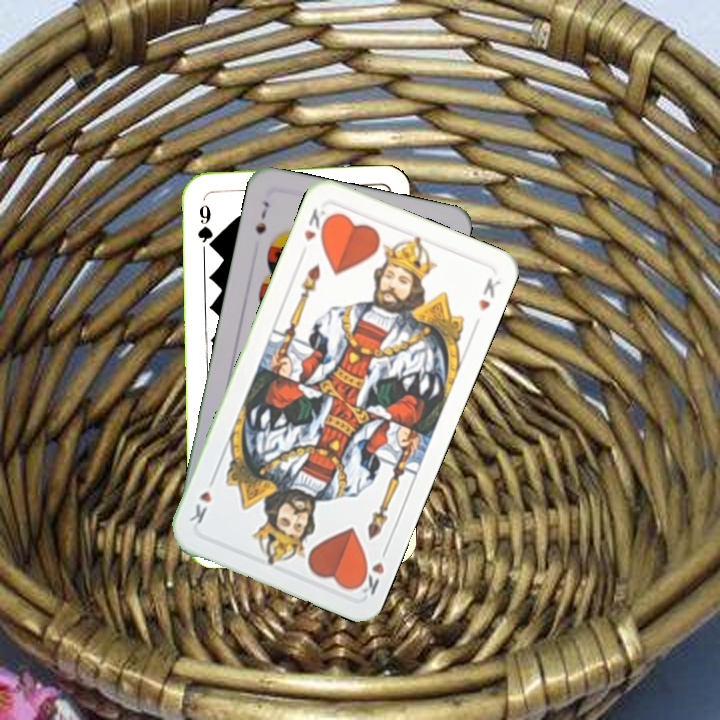G9: (194, 200, 216, 252)
HK: (352, 542, 391, 599), (299, 204, 333, 244)
S7: (251, 197, 272, 237)
